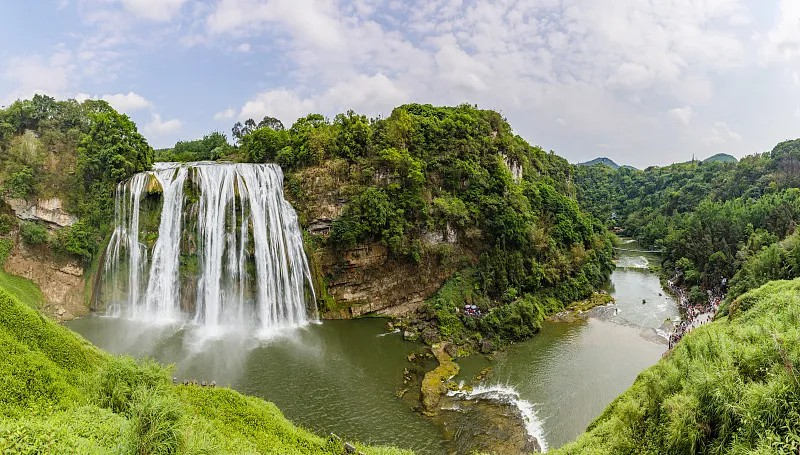Huangguoshu: (98, 161, 324, 331)
